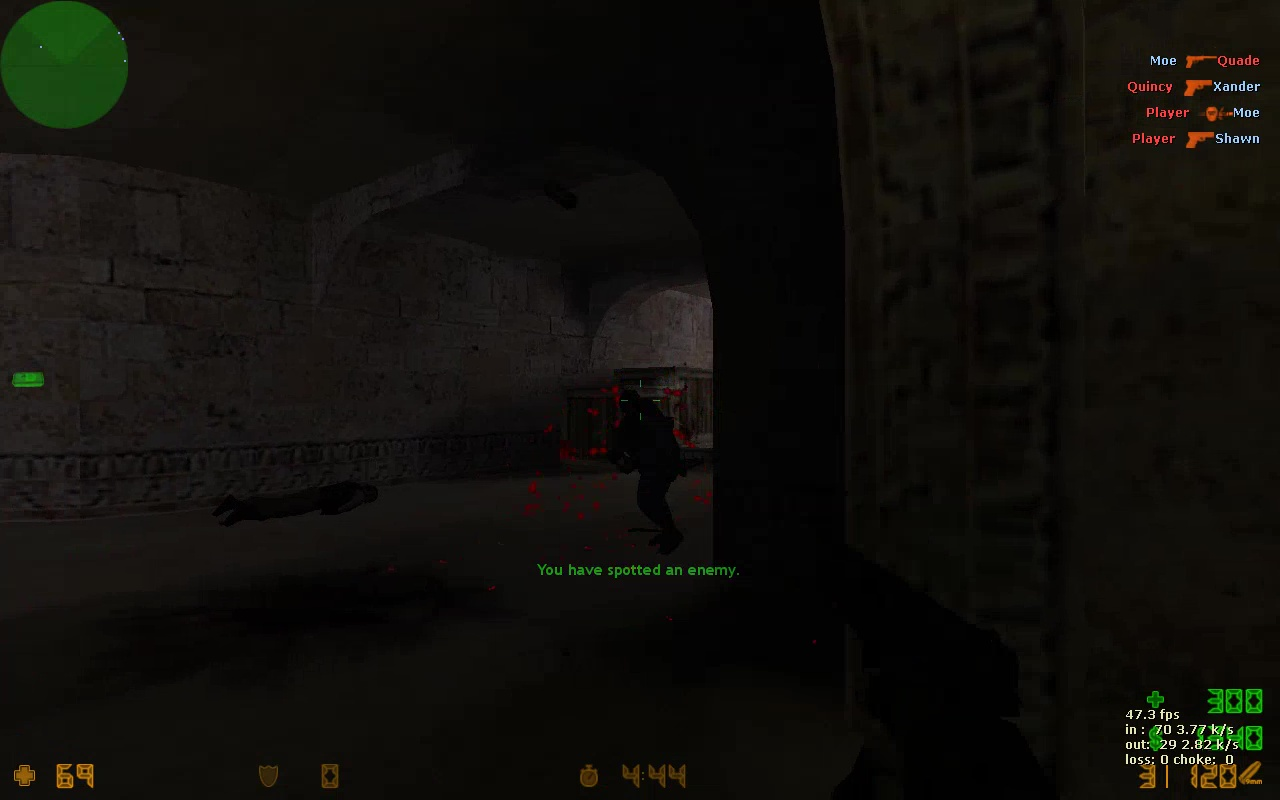ct: (602, 393, 692, 554)
dead: (210, 476, 380, 527)
